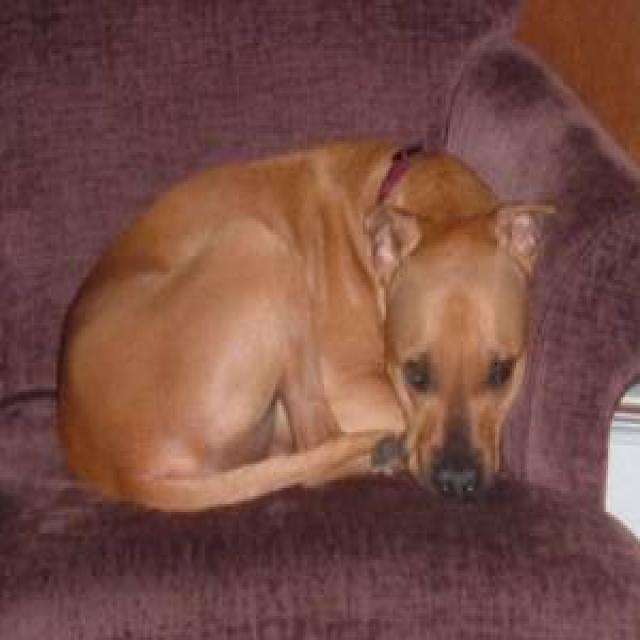dog-american_pit_bull_terrier: (47, 123, 555, 523)
